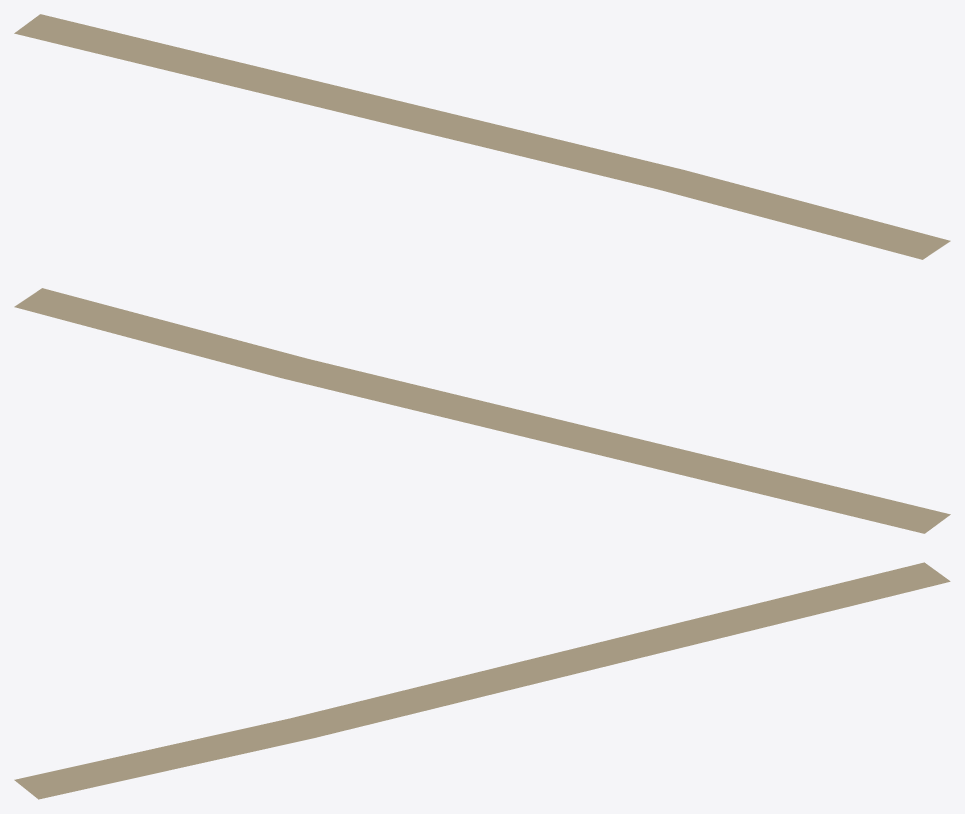
The picture shows the model from 3 angles, top to bottom: view 1: azimuth 30°, elevation 25°; view 2: azimuth 210°, elevation 25°; view 3: azimuth 270°, elevation 25°; orthographic projection.
Parts seen in each view (by area): view 1: path; view 2: path; view 3: path.
Boxes of the visible parts, bbox=[...] form: path: bbox=[14, 14, 950, 259]; path: bbox=[14, 288, 950, 533]; path: bbox=[14, 562, 950, 799].
Size of what is drawn, in the model's own units: 31.98 by 0 by 53.39.
